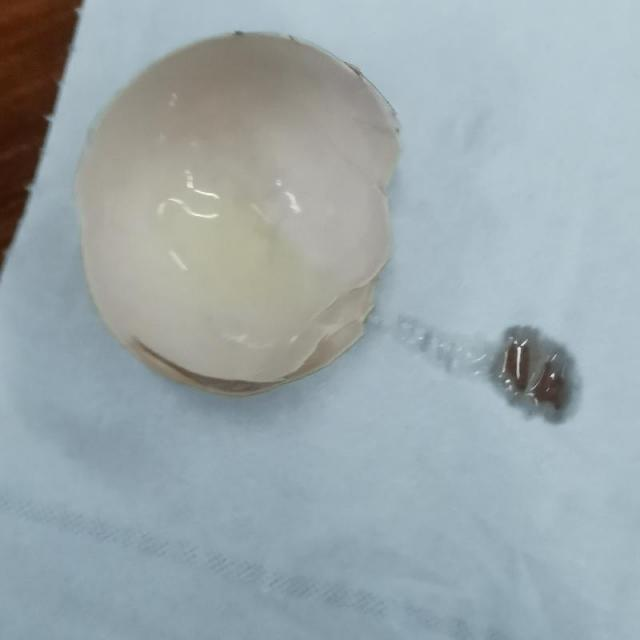egg shell: (76, 35, 396, 382)
